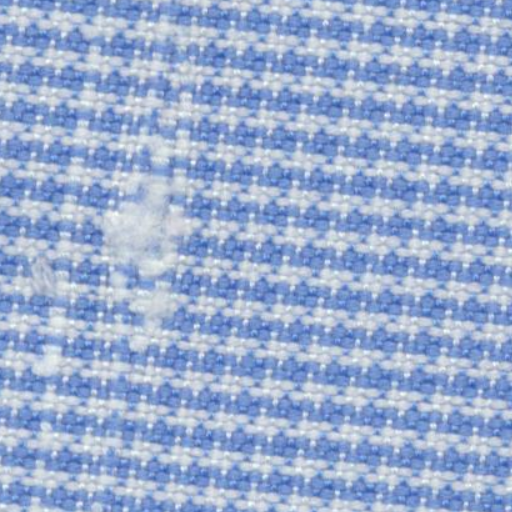MianQiu: (108, 192, 176, 262)
